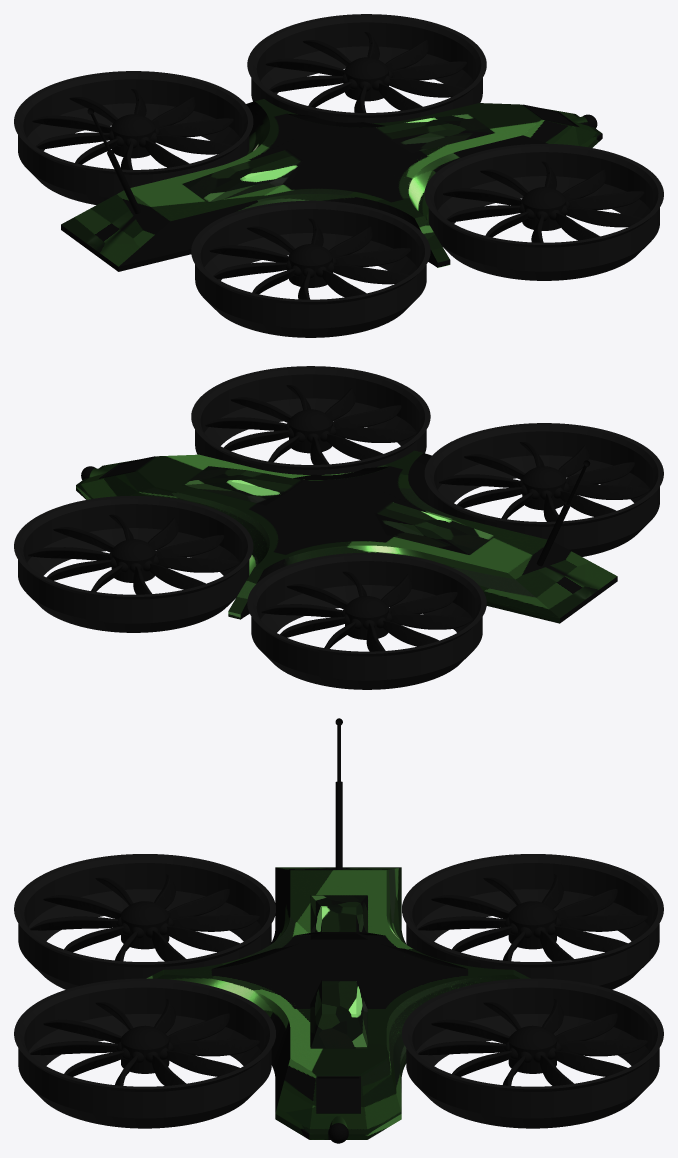
Rendered from parrot_camo_drone.glb.
3 views of the same model, one above another, from view 1: azimuth 30°, elevation 25°; view 2: azimuth 150°, elevation 25°; view 3: azimuth 270°, elevation 25° (orthographic). The views are drawn at different scales.
Parts seen in each view (by area): view 1: camo_body1_2, motor_props.003_10, motor_props_8, motor_props.002_11, motor_props.001_9, camo_body4_5, camo_body3_4, camo_body_antenna_6, camo_body2_3; view 2: camo_body1_2, motor_props.002_11, motor_props.001_9, motor_props.003_10, motor_props_8, camo_body4_5, camo_body3_4, camo_body_antenna_6; view 3: camo_body1_2, motor_props_8, motor_props.001_9, motor_props.002_11, motor_props.003_10, camo_body3_4, camo_body4_5, camo_body_antenna_6, camo_body2_3.
Boxes of the visible parts, left/top/right/bottom form: camo_body1_2: left=61, top=99, right=602, bottom=271; motor_props.003_10: left=191, top=200, right=430, bottom=337; motor_props_8: left=424, top=143, right=663, bottom=280; motor_props.002_11: left=14, top=71, right=253, bottom=204; motor_props.001_9: left=247, top=14, right=486, bottom=123; camo_body4_5: left=182, top=149, right=302, bottom=202; camo_body3_4: left=374, top=114, right=494, bottom=153; camo_body_antenna_6: left=87, top=108, right=140, bottom=213; camo_body2_3: left=287, top=113, right=384, bottom=127; camo_body1_2: left=76, top=450, right=617, bottom=623; motor_props.002_11: left=247, top=552, right=486, bottom=689; motor_props.001_9: left=14, top=495, right=253, bottom=632; motor_props.003_10: left=424, top=423, right=663, bottom=556; motor_props_8: left=191, top=366, right=430, bottom=474; camo_body4_5: left=375, top=501, right=495, bottom=554; camo_body3_4: left=183, top=466, right=303, bottom=505; camo_body_antenna_6: left=536, top=460, right=590, bottom=566; camo_body1_2: left=146, top=867, right=530, bottom=1139; motor_props_8: left=14, top=978, right=275, bottom=1128; motor_props.001_9: left=402, top=978, right=663, bottom=1128; motor_props.002_11: left=402, top=854, right=663, bottom=989; motor_props.003_10: left=14, top=854, right=275, bottom=989; camo_body3_4: left=310, top=979, right=367, bottom=1048; camo_body4_5: left=310, top=895, right=367, bottom=939; camo_body_antenna_6: left=335, top=718, right=342, bottom=869; camo_body2_3: left=212, top=932, right=467, bottom=968.
Size of the model in its own units: 16.43 by 4.75 by 16.64.
16 materials, 2 textured.
